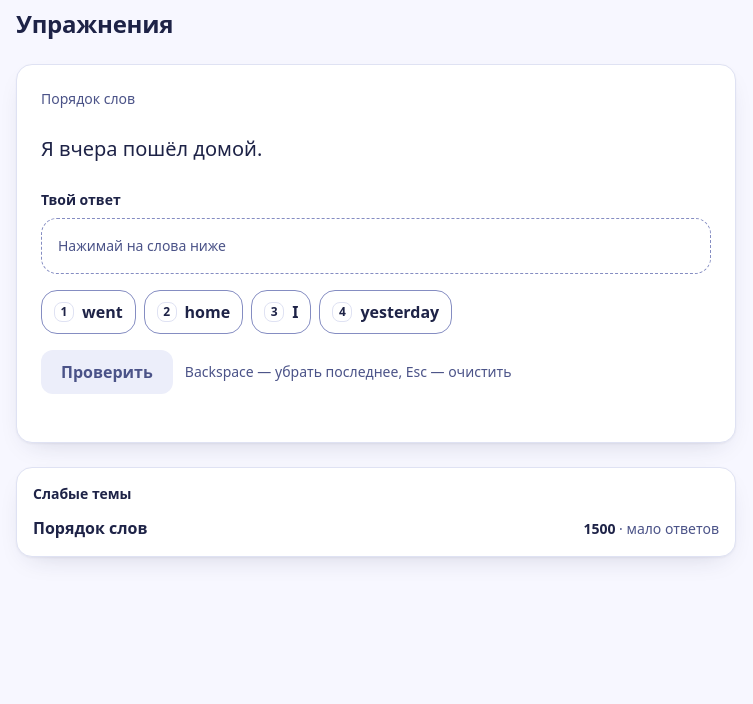
Test: OrderExercise › 5xx: порядок замораживается, «Повторить» шлёт тот же ключ, «Пропустить» есть
Expected: the text "Я вчера пошёл домой." is shown, top-left (41, 135), bottom-right (262, 162)
Type keys "1234{Enter}"
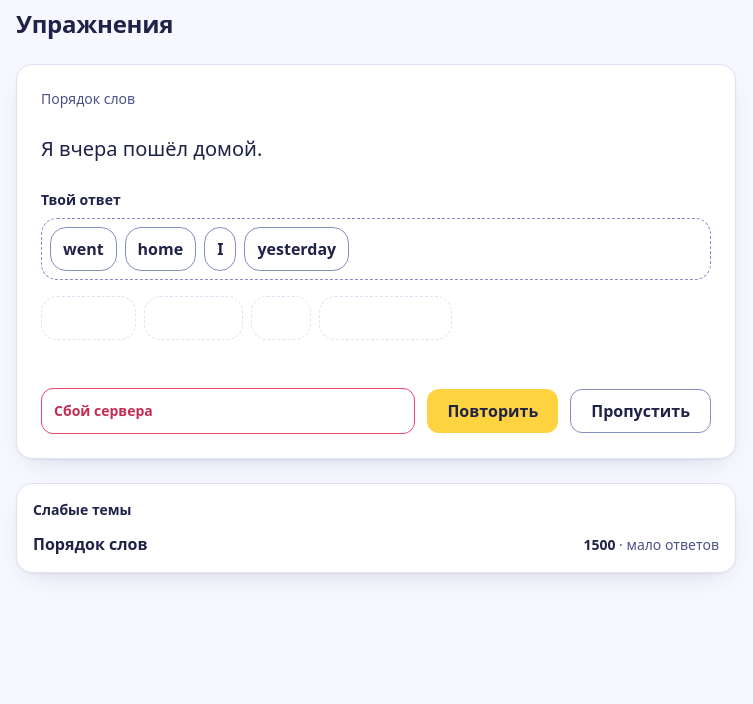
Expected: the message "Сбой сервера" is shown, top-left (41, 388), bottom-right (415, 434)
Press Backspace
Expected: the button "Пропустить" is shown, top-left (570, 388), bottom-right (711, 432)
Click the button "Повторить": (493, 410) top-left (427, 388), bottom-right (558, 432)
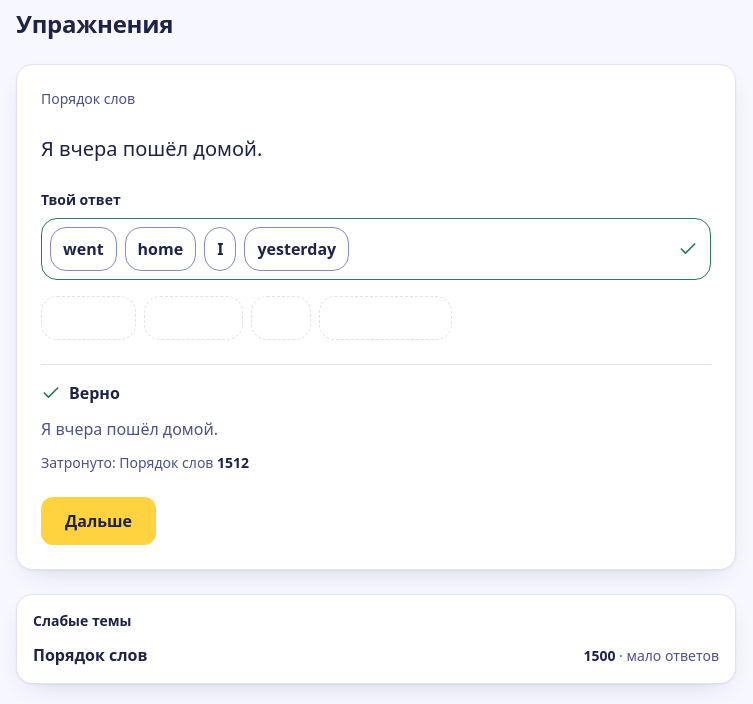
Expected: the text "Верно" is shown, top-left (41, 382), bottom-right (120, 404)
